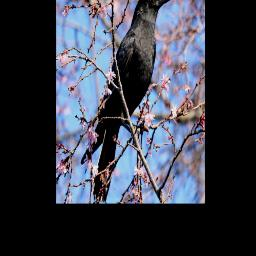Crow: (80, 0, 172, 200)
